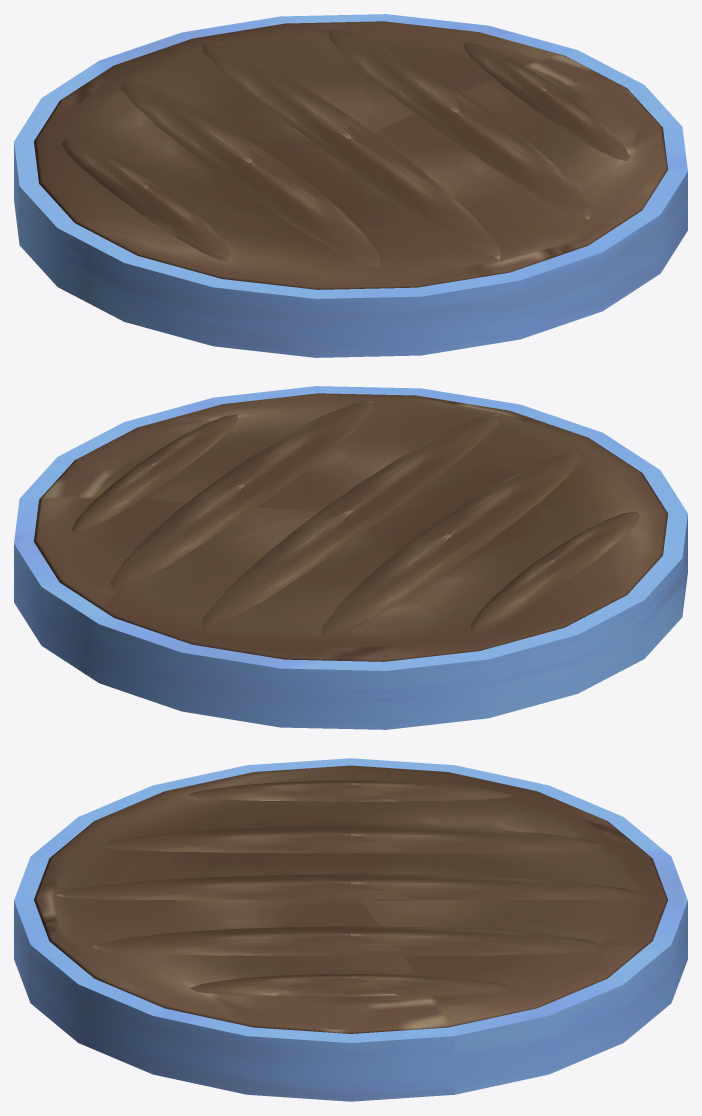
Rendered from plotBlue.fbx.
The picture shows the model from 3 angles, top to bottom: view 1: azimuth 30°, elevation 25°; view 2: azimuth 150°, elevation 25°; view 3: azimuth 270°, elevation 25°; orthographic projection.
Visible parts, largest first — view 1: pSphere7, pCylinder1B; view 2: pSphere7, pCylinder1B; view 3: pSphere7, pCylinder1B.
Boxes of the visible parts, x1=… form: pSphere7: x1=34, y1=21, x2=667, y2=289; pCylinder1B: x1=14, y1=14, x2=687, y2=357; pSphere7: x1=34, y1=393, x2=667, y2=661; pCylinder1B: x1=14, y1=386, x2=687, y2=729; pSphere7: x1=34, y1=765, x2=667, y2=1033; pCylinder1B: x1=14, y1=758, x2=687, y2=1101.
Size of the model in its own units: 2 by 0.2506 by 2.
